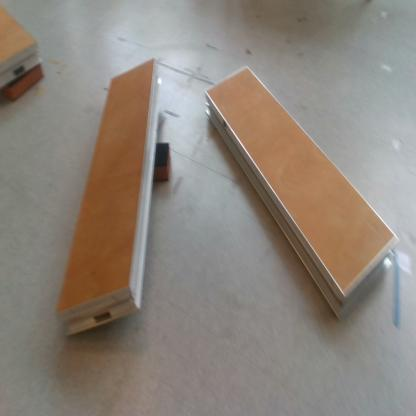Stairs: (206, 66, 400, 323), (55, 58, 164, 338), (1, 1, 42, 90)
